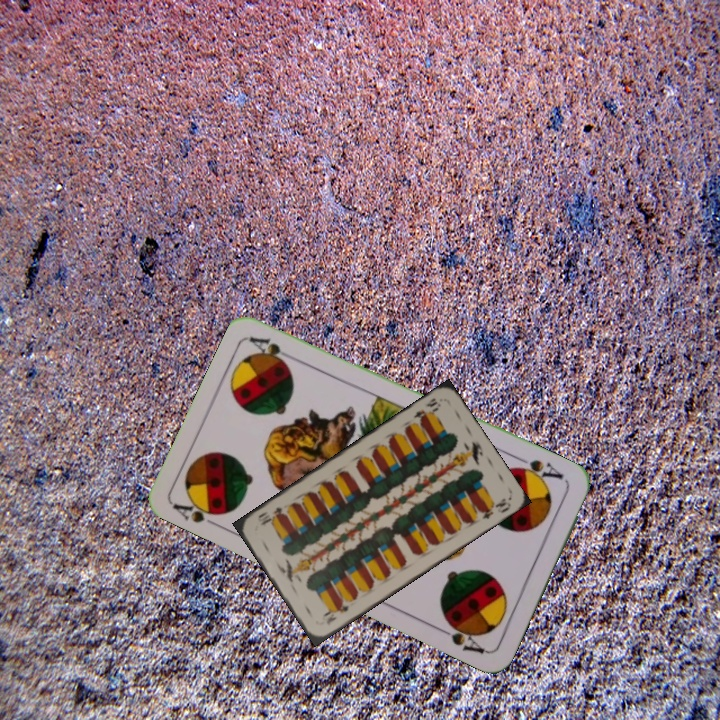E10: (409, 394, 444, 425), (320, 600, 352, 628)
SA: (169, 492, 230, 531), (509, 453, 566, 487)
